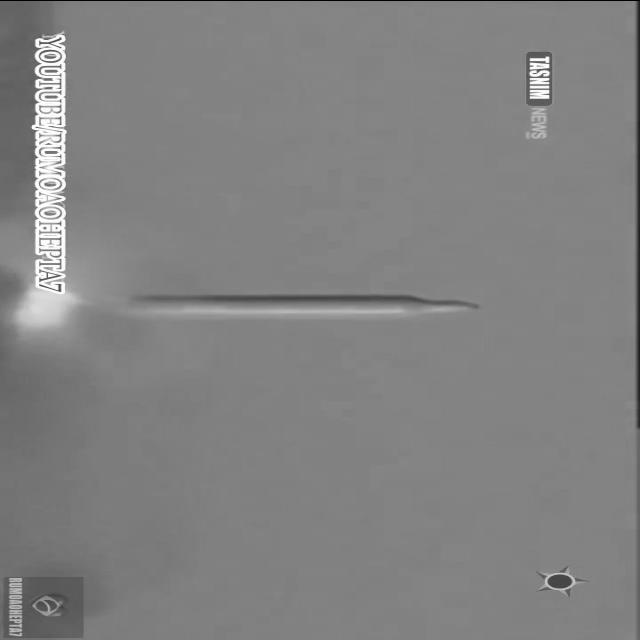missile: (120, 290, 498, 330)
